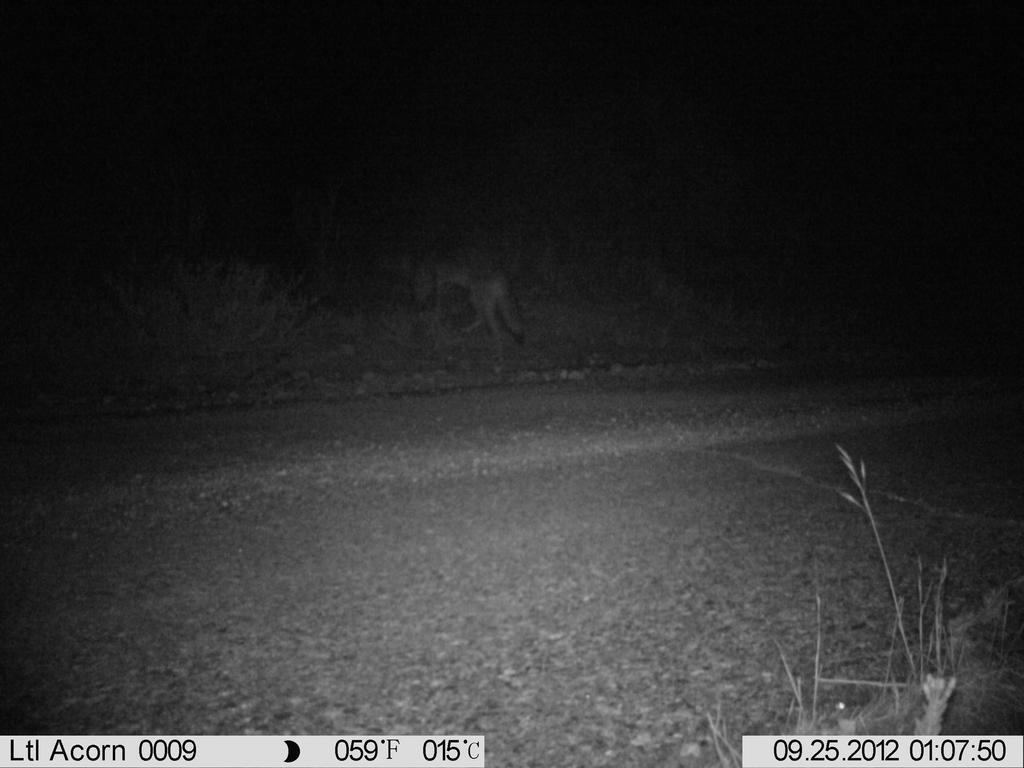coyote: (407, 242, 533, 355)
